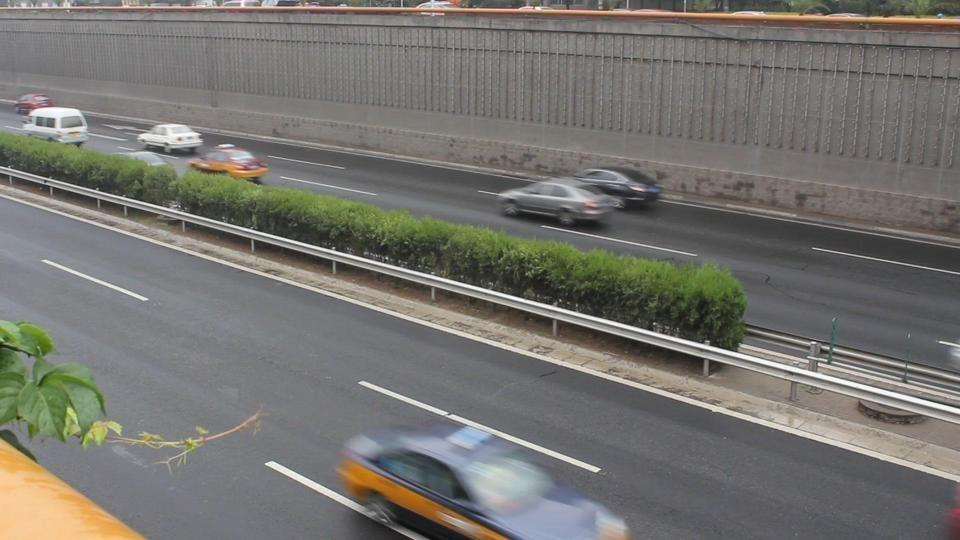car: (336, 421, 631, 540), (495, 179, 615, 229), (575, 169, 662, 210), (189, 144, 269, 182), (21, 106, 89, 146), (138, 122, 204, 155), (939, 482, 960, 538), (15, 92, 54, 116)
